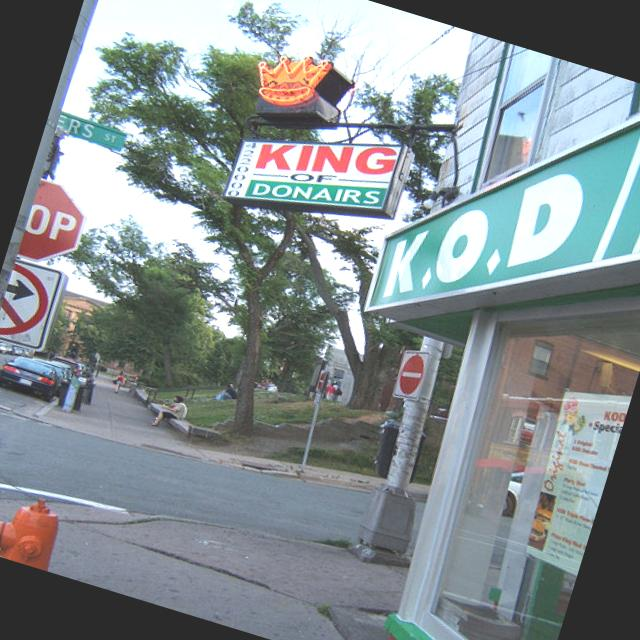Vehicle: (0, 350, 64, 405), (23, 356, 72, 396), (498, 468, 526, 521), (48, 354, 81, 376), (47, 360, 76, 378), (76, 362, 86, 373)
